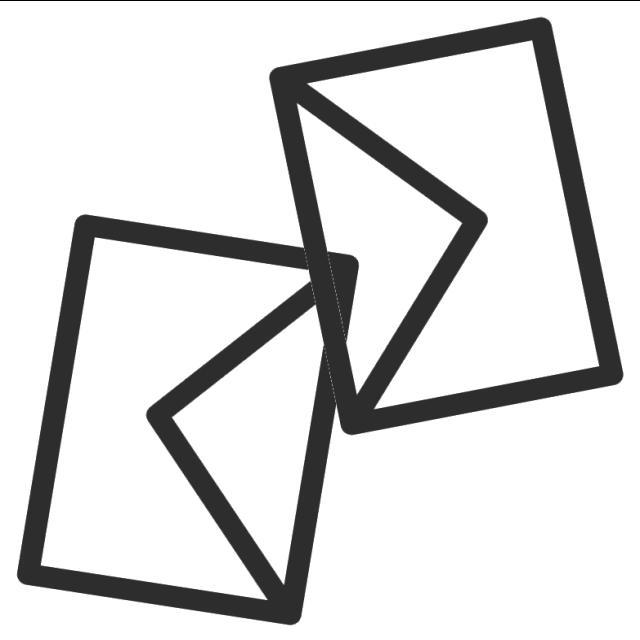letter: (259, 6, 631, 443), (9, 209, 369, 635)
